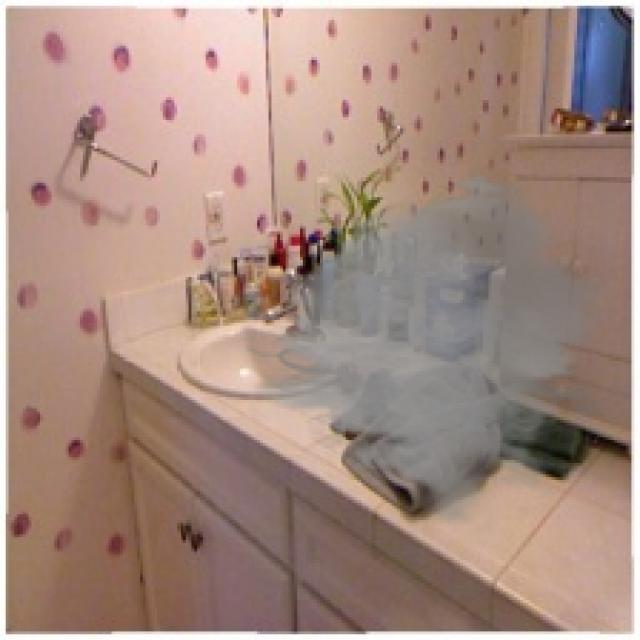smoke: (240, 172, 637, 528)
